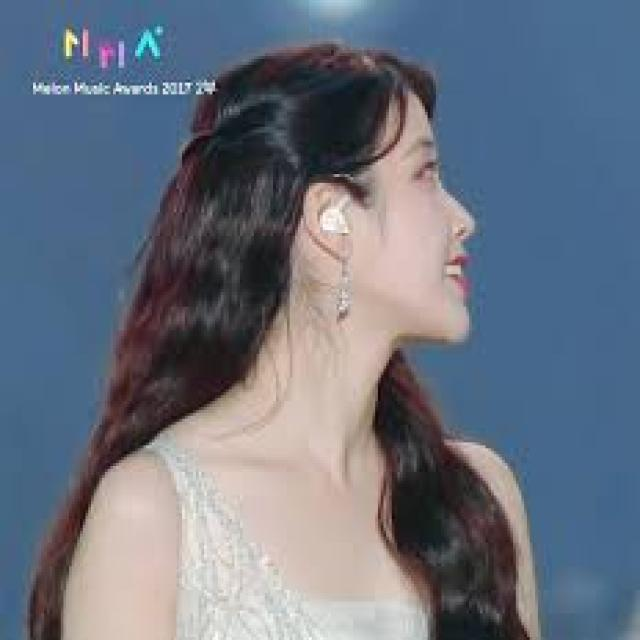earphone: (311, 189, 359, 241)
